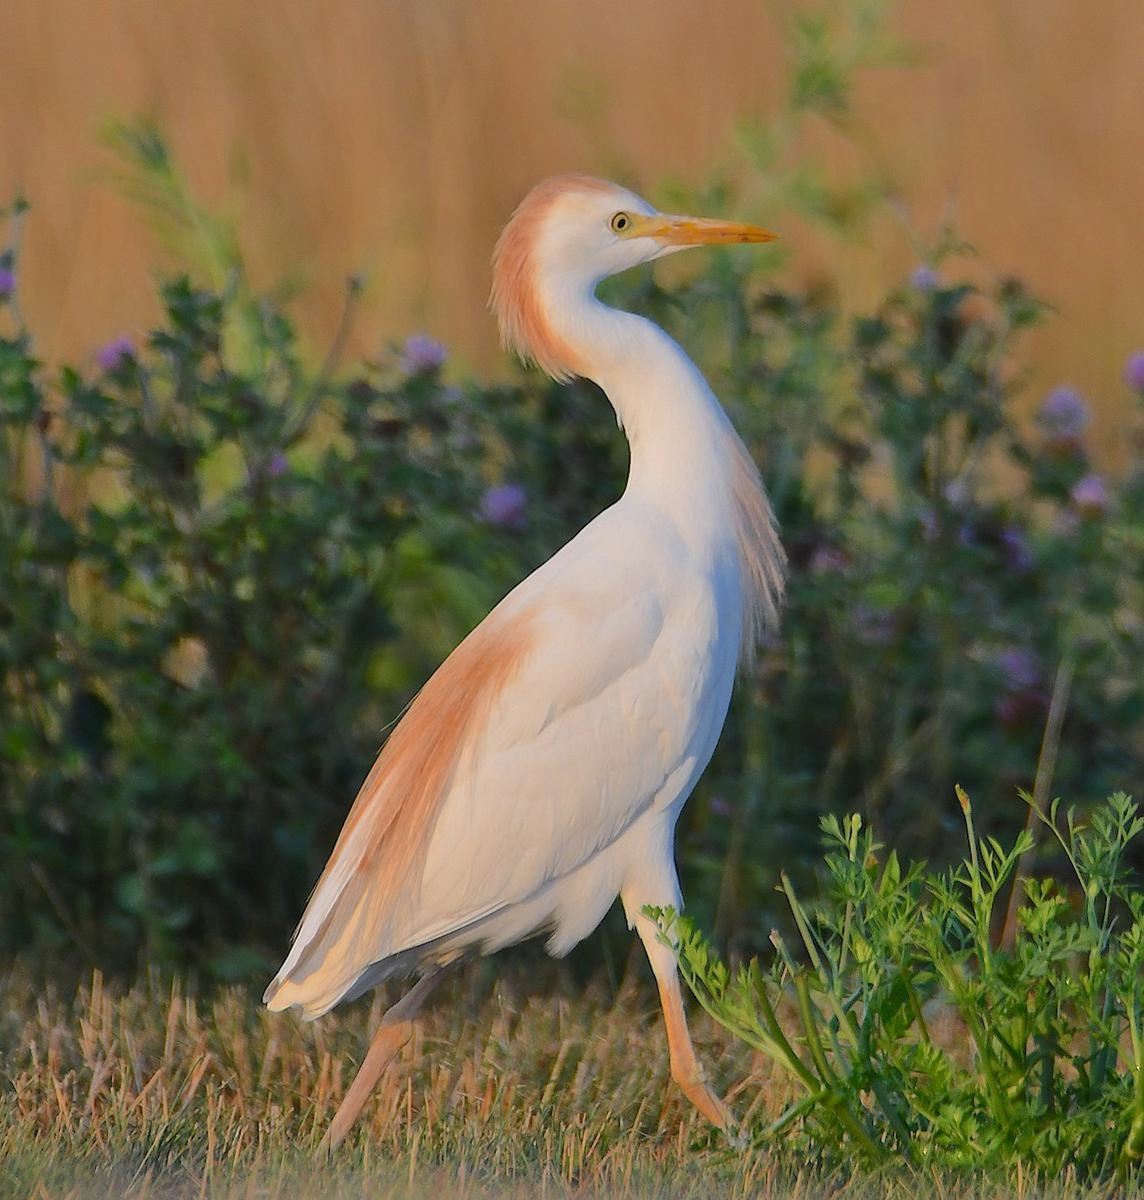egret: (291, 162, 812, 1159)
